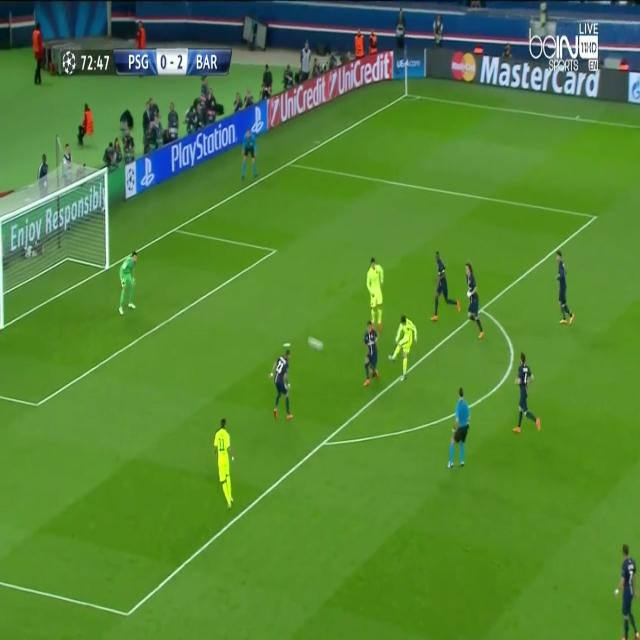Ball: (307, 330, 327, 354)
Goalkeeper: (116, 246, 142, 323)
Player: (611, 539, 640, 640), (511, 348, 541, 438), (210, 415, 235, 513), (429, 248, 463, 320), (268, 341, 296, 427), (387, 313, 418, 387), (461, 259, 488, 341), (553, 246, 576, 328), (363, 255, 387, 330), (361, 321, 380, 392)
Referee: (445, 383, 472, 471), (239, 126, 261, 192)
